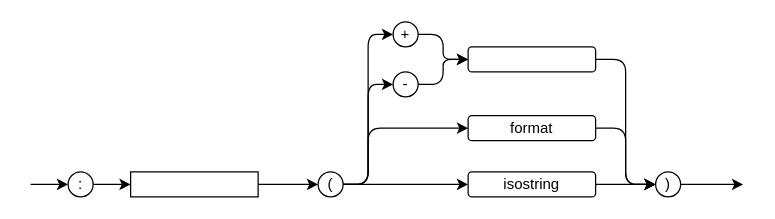
Image size: 775x219. Some labels were removed from this diagram. The centre of each missing label's shape, as x and y in pixels:
date: (193,184)
offset: (531,59)
